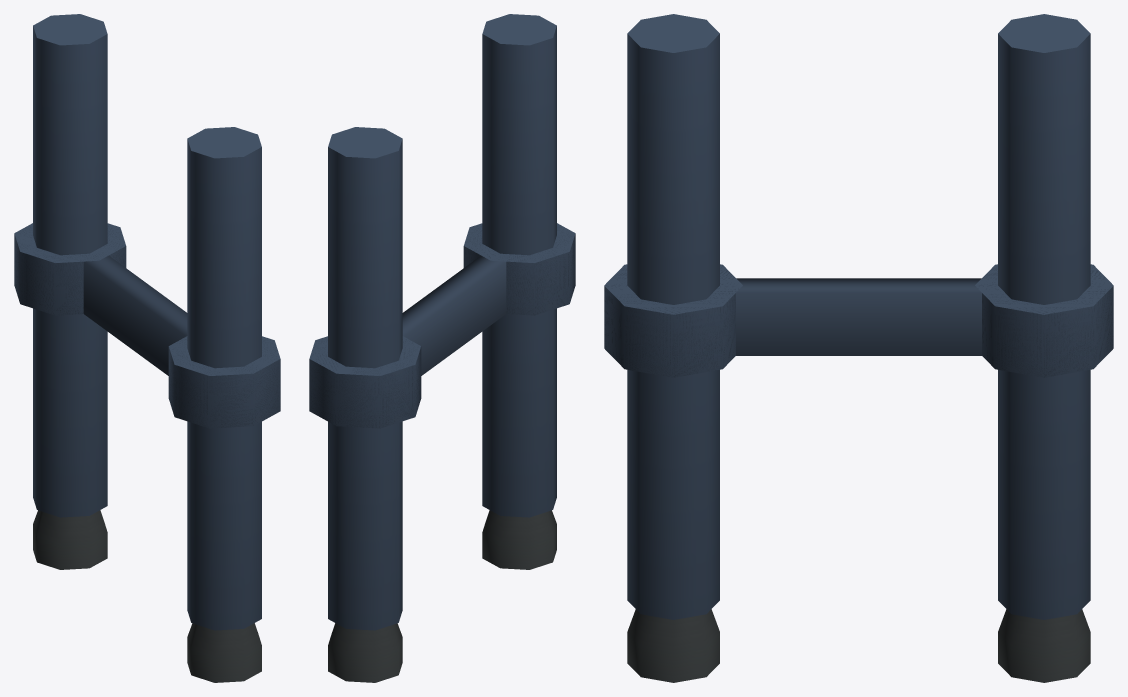
The model's file is factory-kit__structure-high.glb.
3 views of the same model, side by side, from view 1: azimuth 30°, elevation 25°; view 2: azimuth 150°, elevation 25°; view 3: azimuth 270°, elevation 25° (orthographic). The views are drawn at different scales.
Visible parts, largest first — view 1: structure-high; view 2: structure-high; view 3: structure-high.
Part boxes in pixels (x1,y1,x2,y2): structure-high: [14, 14, 280, 682]; structure-high: [309, 14, 575, 682]; structure-high: [604, 14, 1113, 682].
Bounding box in the file's own units: 1.6 × 8 × 5.87.
Materials: 1 (1 with a texture image).
